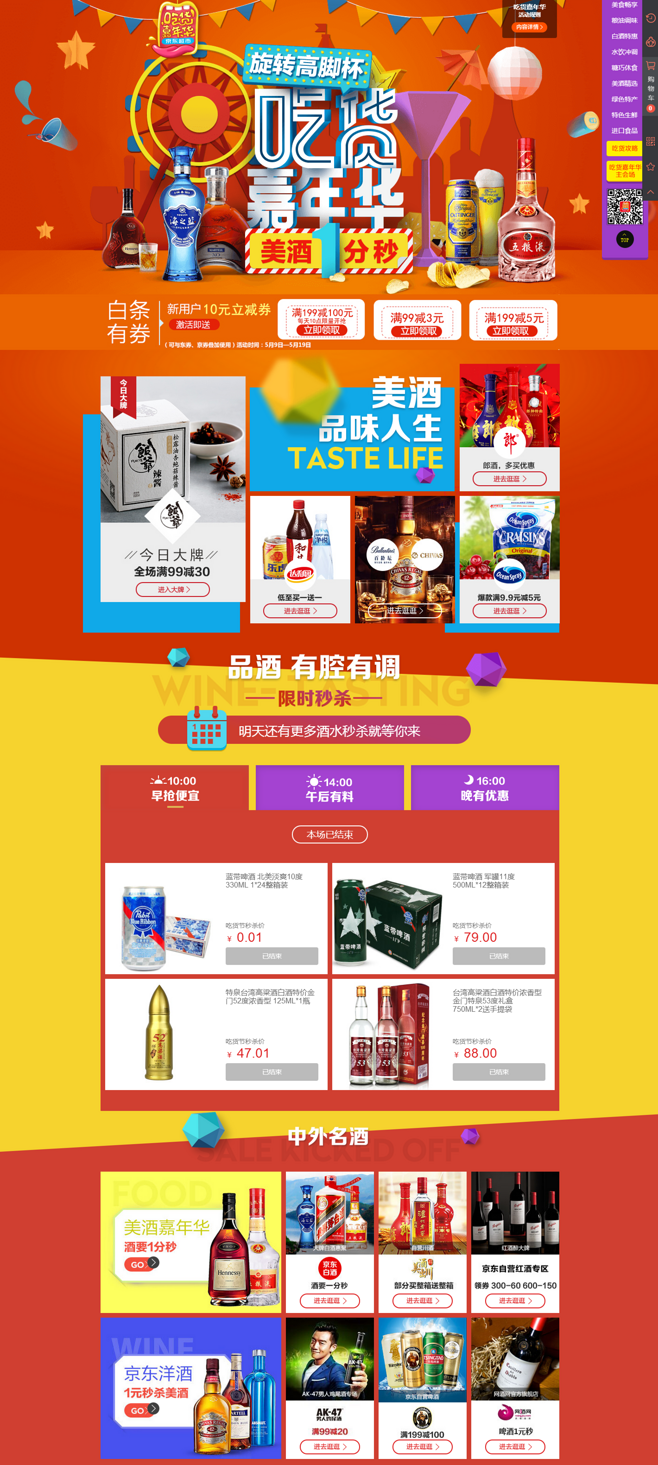floors: (74, 646, 581, 1115), (76, 1123, 594, 1465), (74, 356, 575, 638), (1, 294, 658, 349)
toutu: (1, 1, 658, 291)
